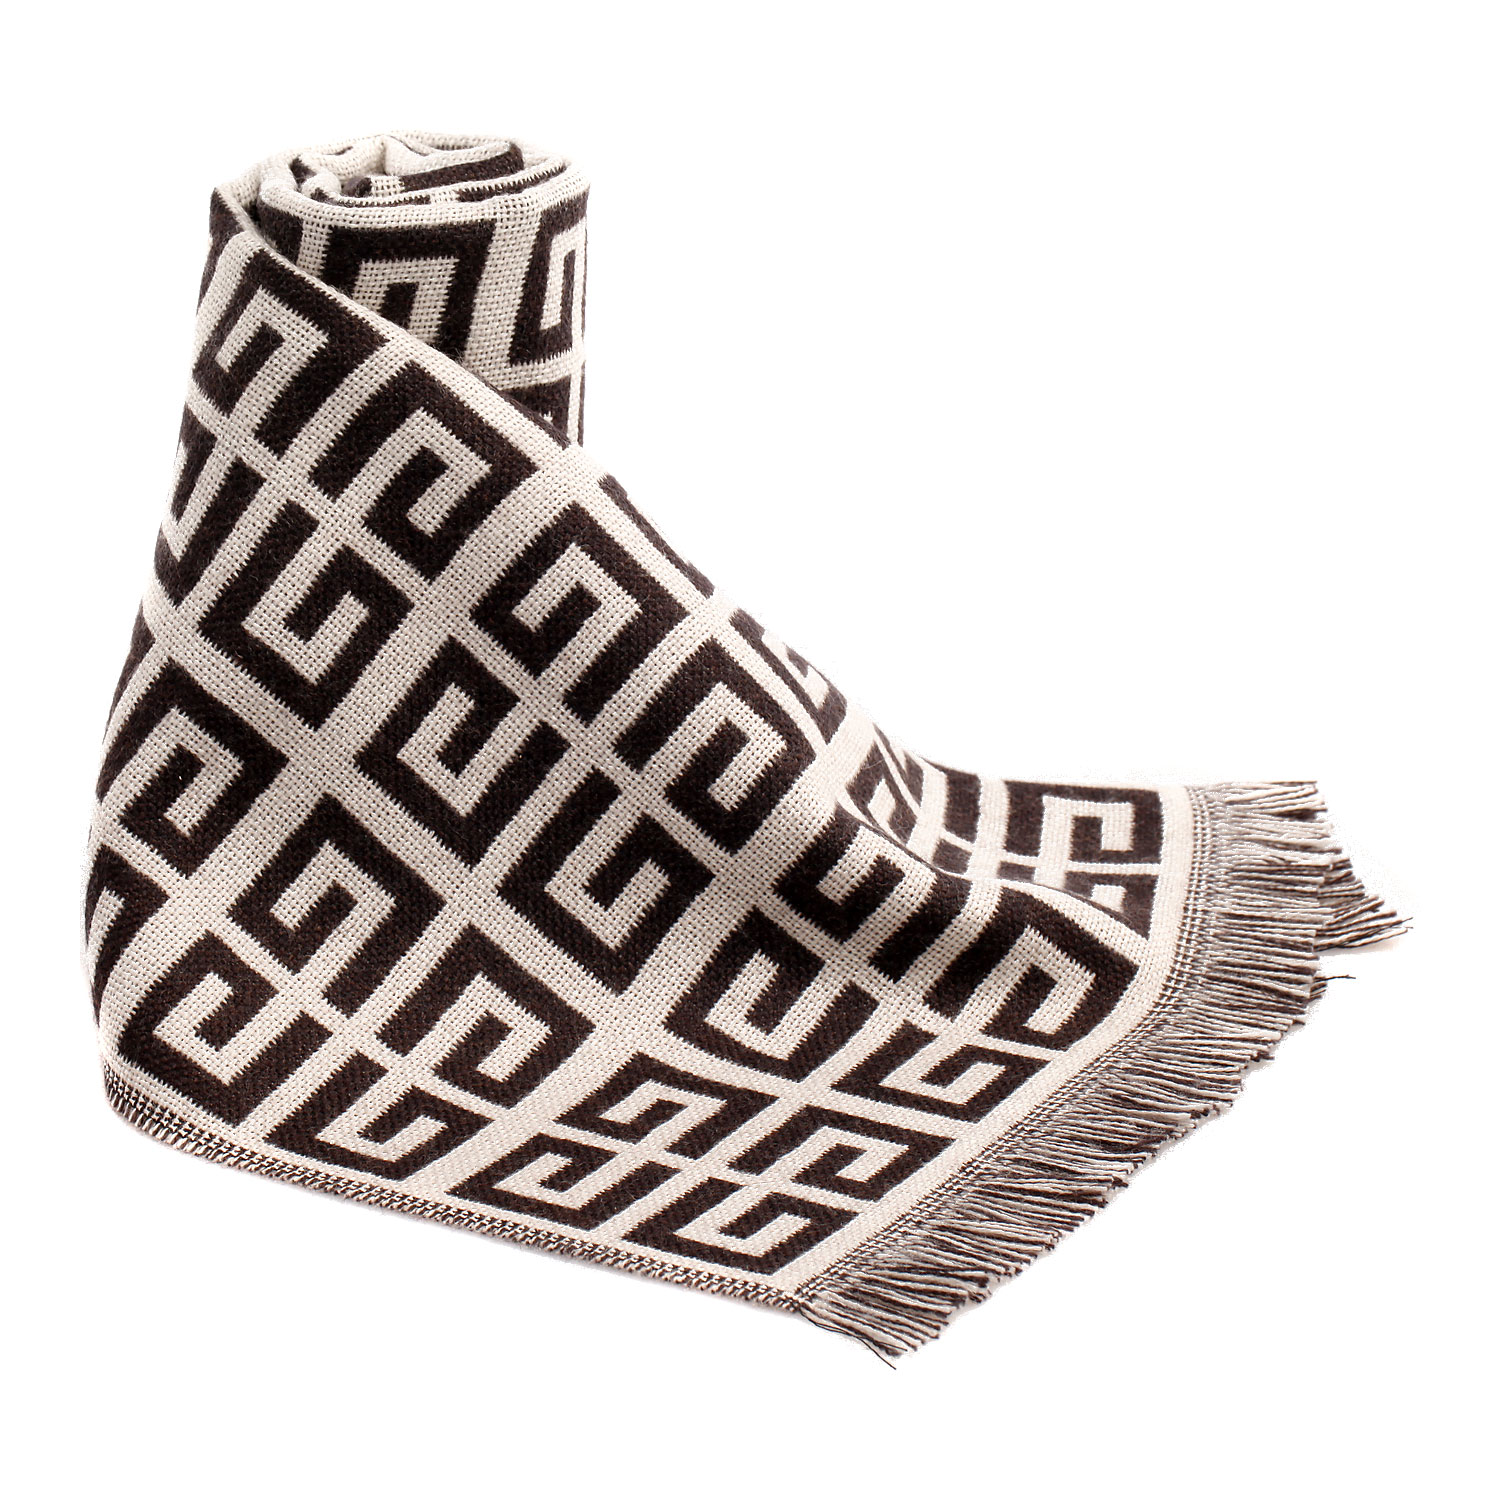flexible: (76, 135, 1407, 1353)
